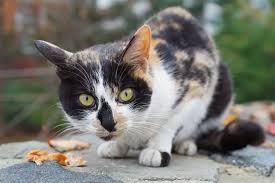cat: (30, 8, 272, 172)
